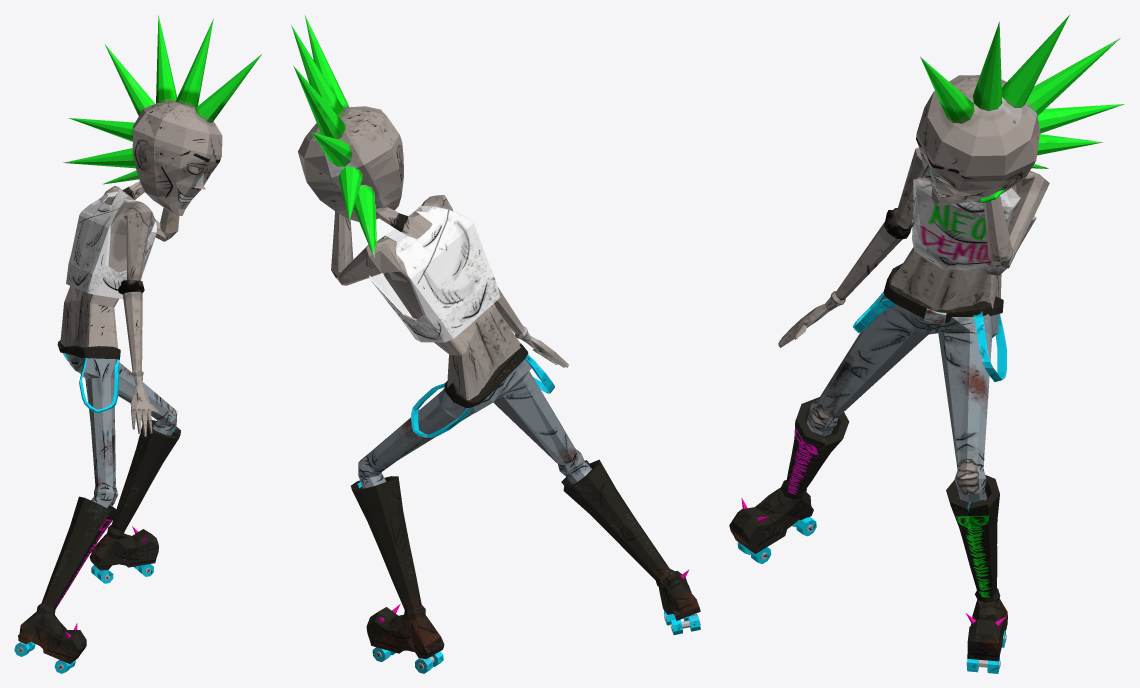
The model's file is punkAnimation_000077.obj.
3 views of the same model, side by side, from view 1: azimuth 30°, elevation 25°; view 2: azimuth 150°, elevation 25°; view 3: azimuth 270°, elevation 25° (orthographic). The views are drawn at different scales.
Parts seen in each view (by area): view 1: Cube.004_Cube.003; view 2: Cube.004_Cube.003; view 3: Cube.004_Cube.003.
Part boxes in pixels (x1=…): Cube.004_Cube.003: x1=14, y1=15, x2=261, y2=673; Cube.004_Cube.003: x1=291, y1=15, x2=700, y2=673; Cube.004_Cube.003: x1=729, y1=15, x2=1124, y2=673.
Bounding box in the file's own units: 3.81 × 6.56 × 3.37.
